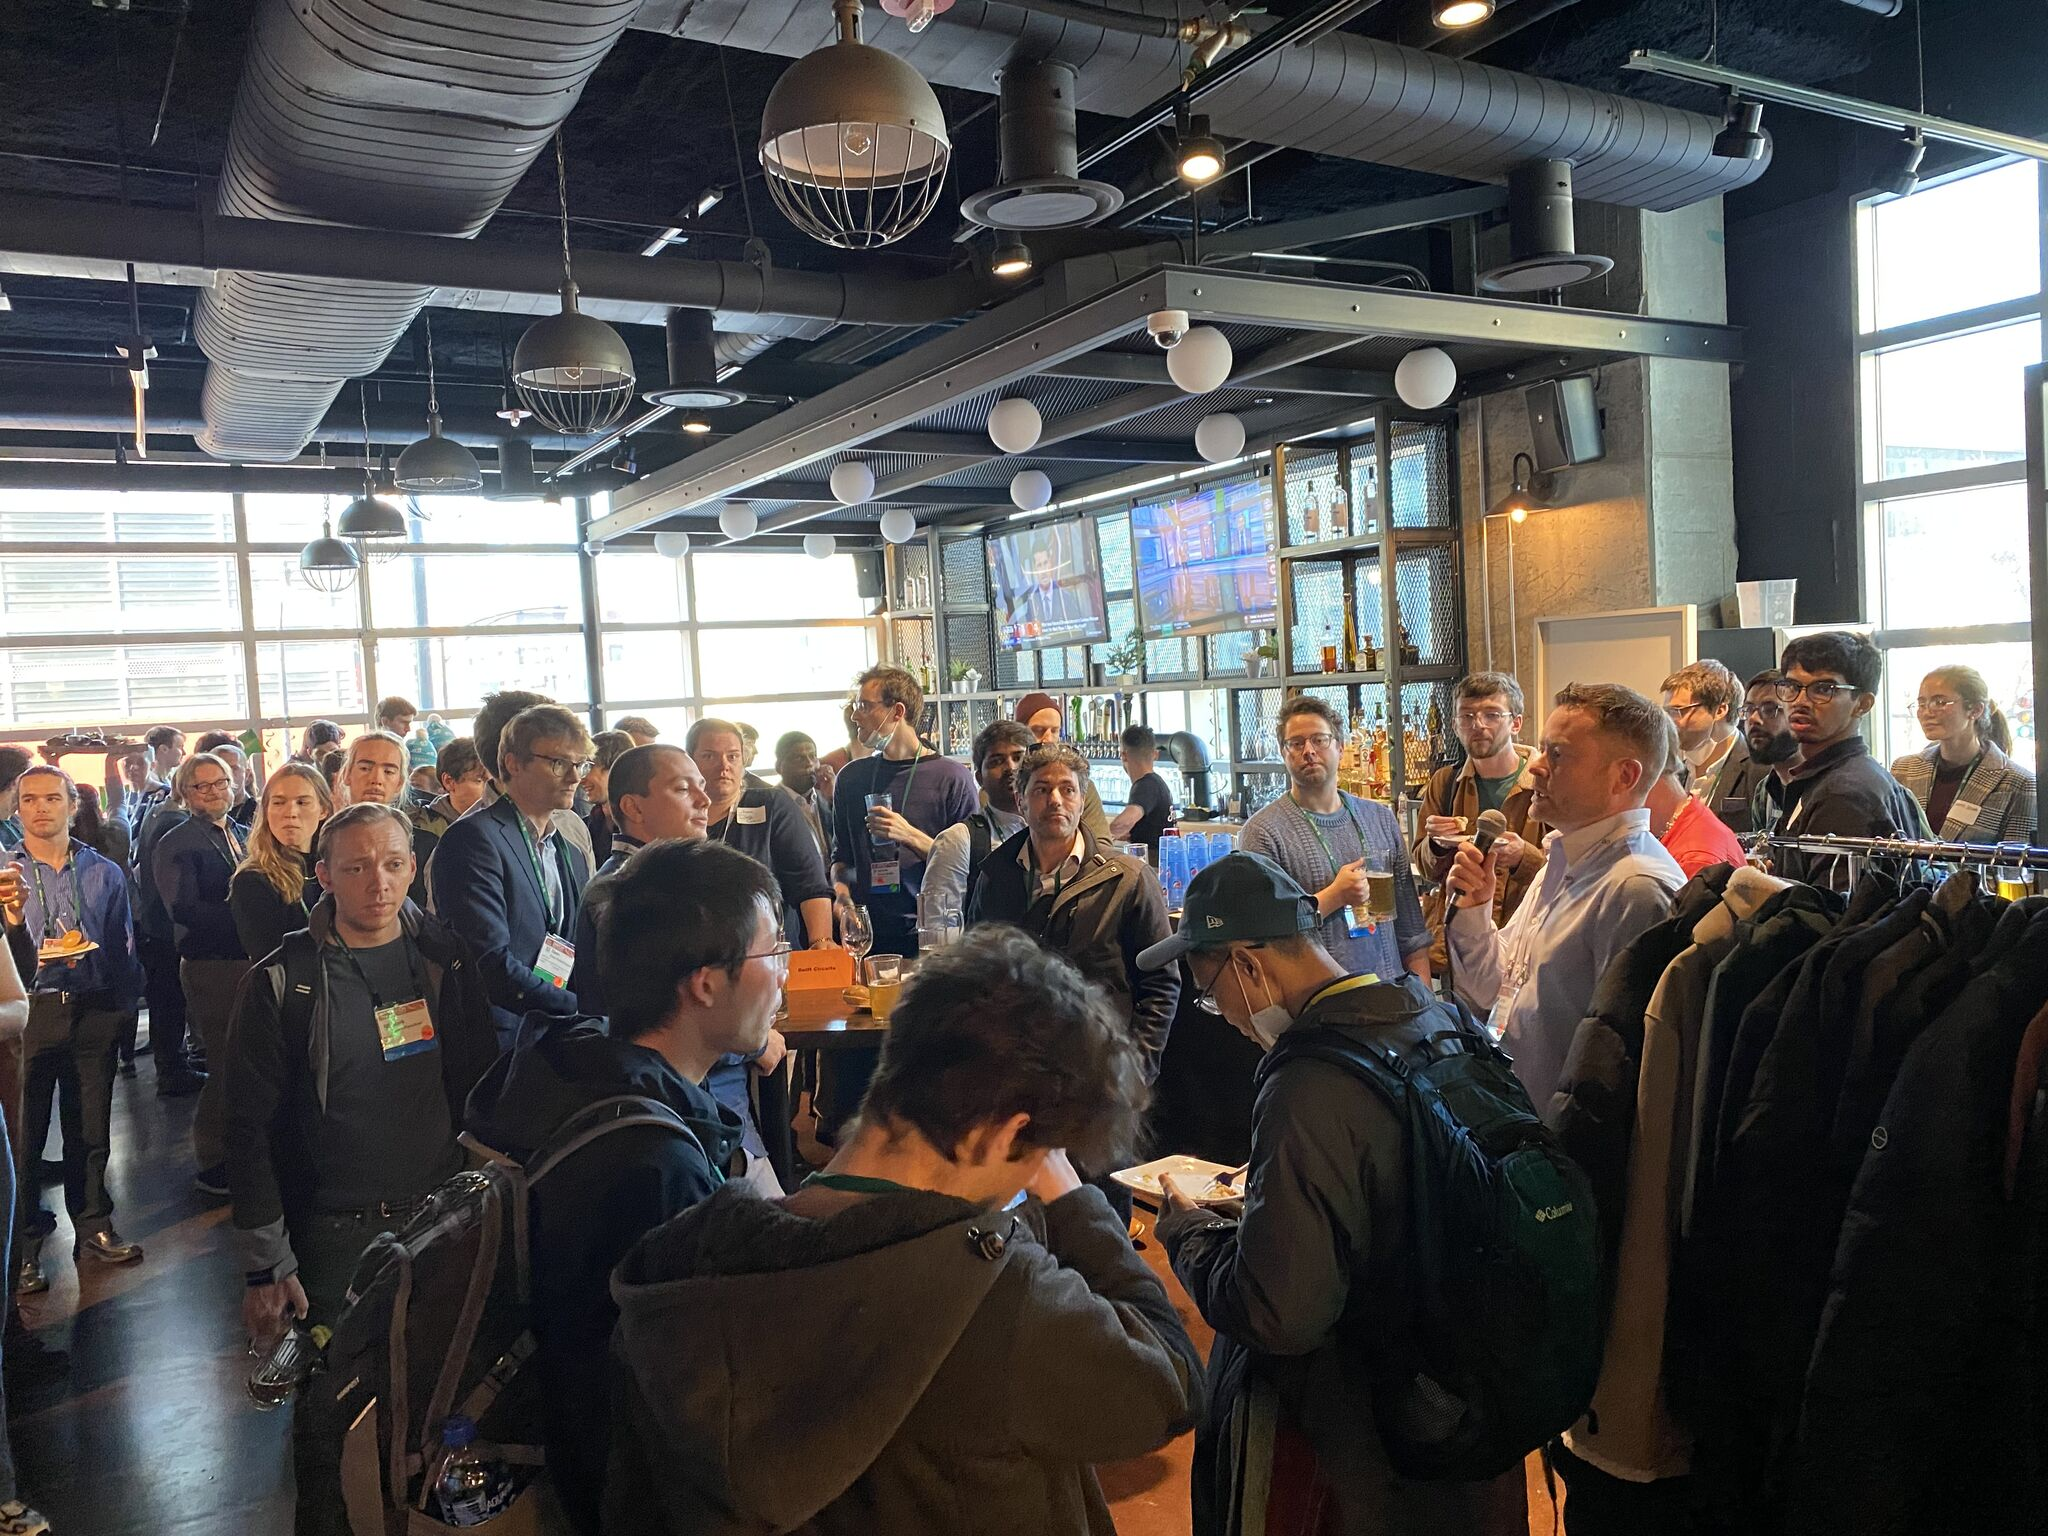without_mask: (1526, 729, 1595, 820), (334, 853, 409, 917), (653, 776, 711, 842), (1786, 674, 1844, 740), (1026, 779, 1080, 835), (265, 789, 321, 843), (1453, 706, 1511, 756), (1280, 731, 1337, 780), (542, 753, 591, 809), (350, 755, 406, 802), (1914, 691, 1962, 743), (19, 789, 71, 833)
